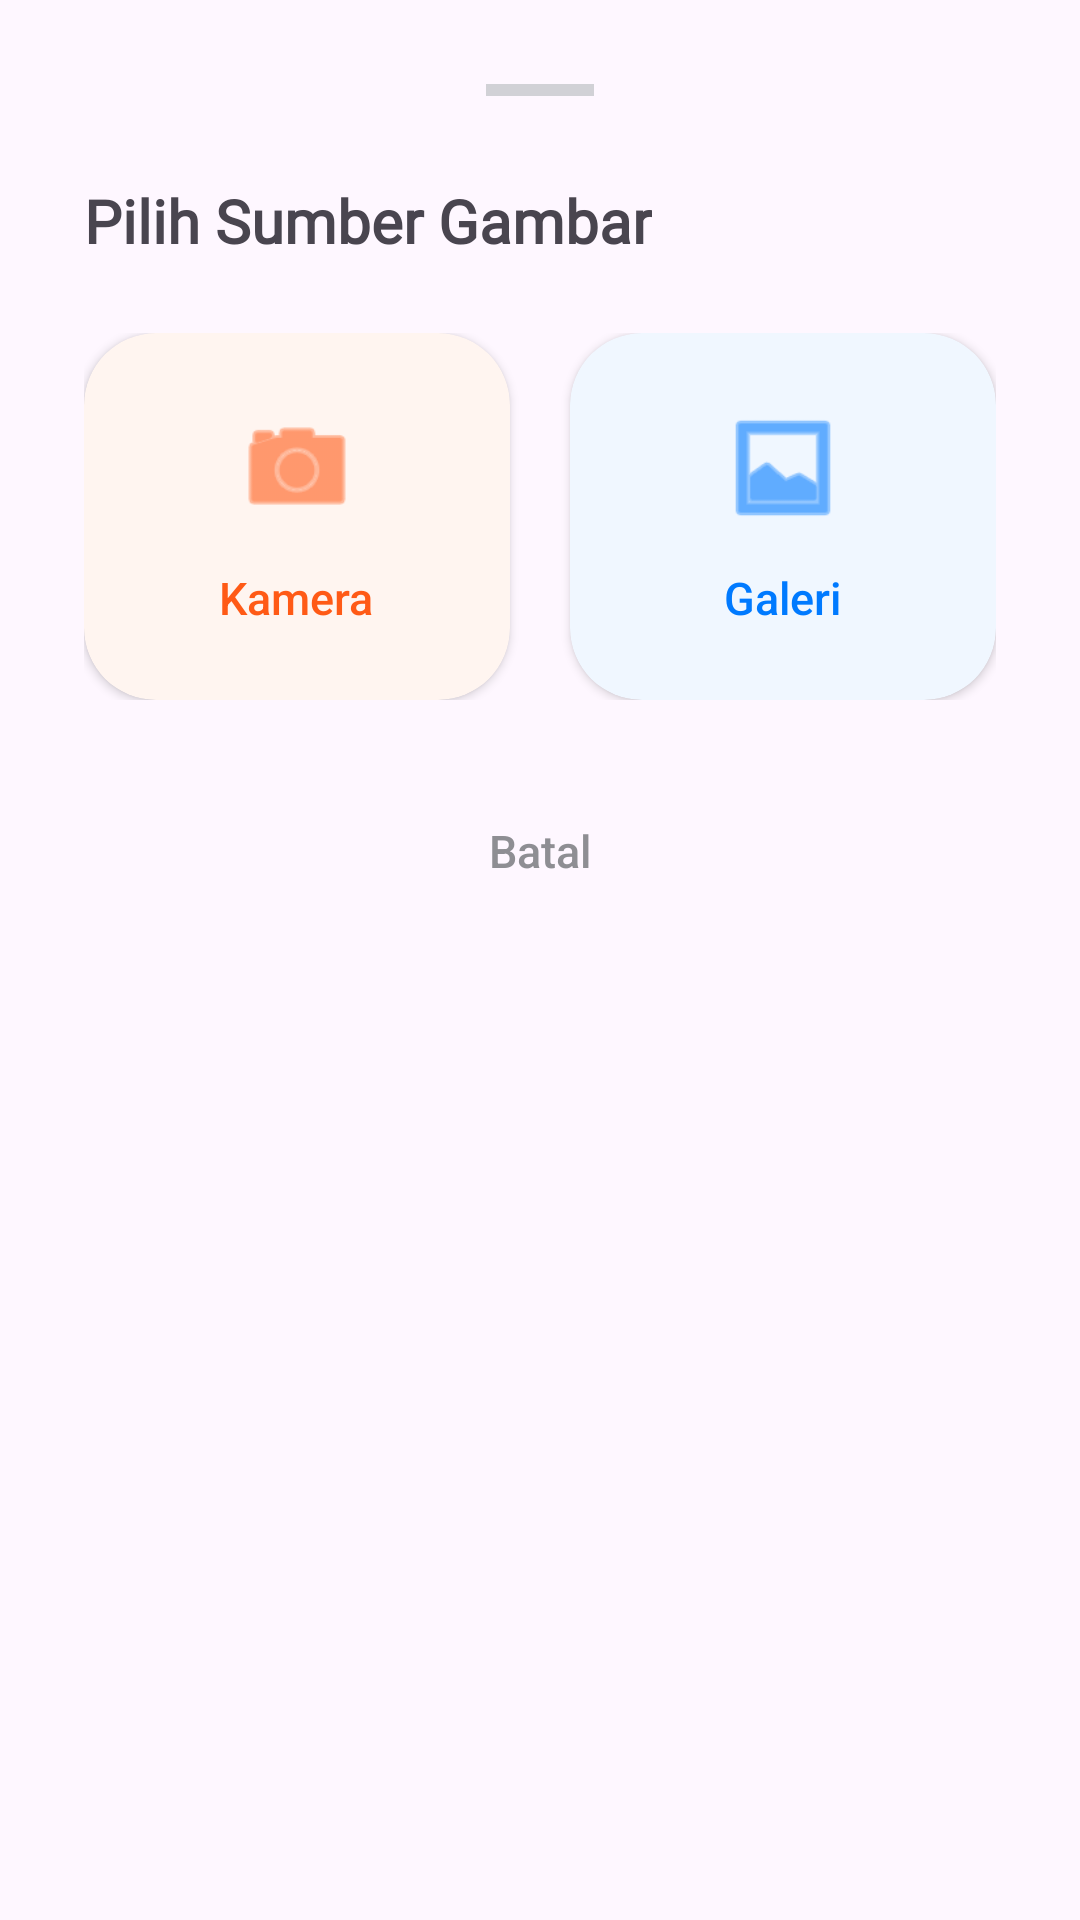

Screen size 1080 × 1920. Icon name, then its box in pixels as (left=x1, top=y1, right=x2, bottom=y2):
camera: (left=248, top=427, right=346, bottom=505)
gallery: (left=735, top=420, right=831, bottom=516)
